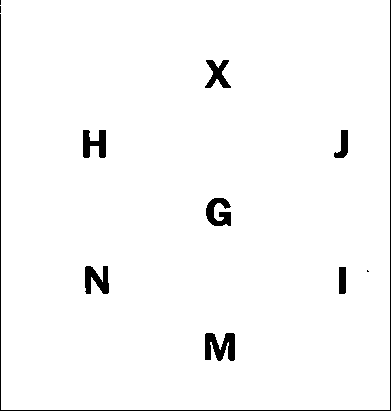I: (329, 261, 355, 303)
